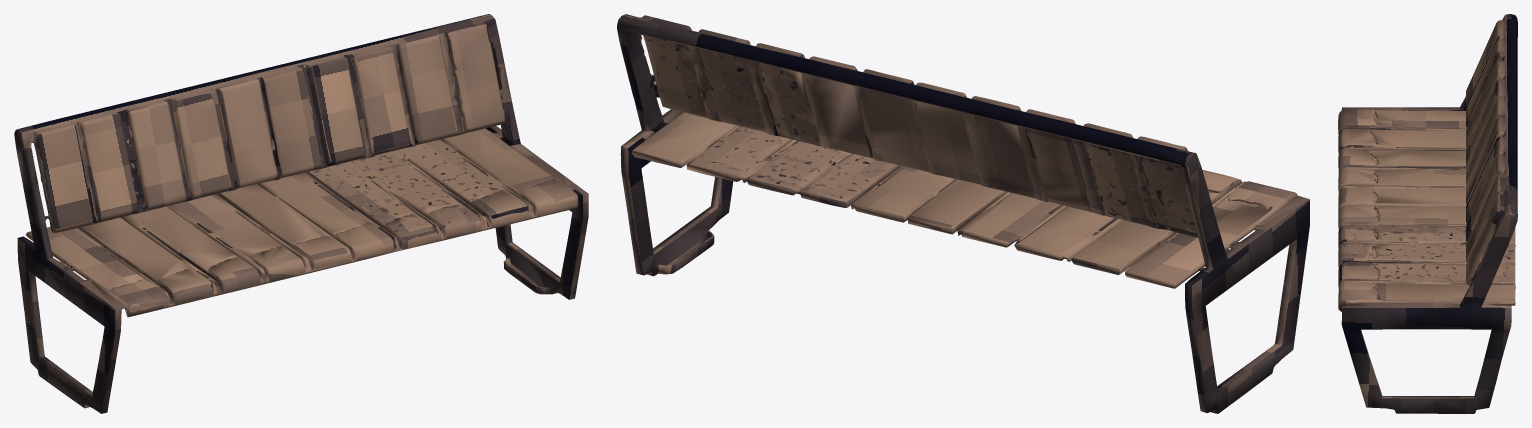
The picture shows the model from 3 angles, left to right: view 1: azimuth 30°, elevation 25°; view 2: azimuth 150°, elevation 25°; view 3: azimuth 270°, elevation 25°; orthographic projection. The views are drawn at different scales.
Parts seen in each view (by area): view 1: geometry_0; view 2: geometry_0; view 3: geometry_0.
Boxes of the visible parts, x1=… form: geometry_0: x1=14, y1=14, x2=588, y2=413; geometry_0: x1=617, y1=14, x2=1309, y2=413; geometry_0: x1=1338, y1=14, x2=1517, y2=413.
Size of the model in its own units: 1 by 0.4678 by 0.3797.
1 material, 1 textured.
